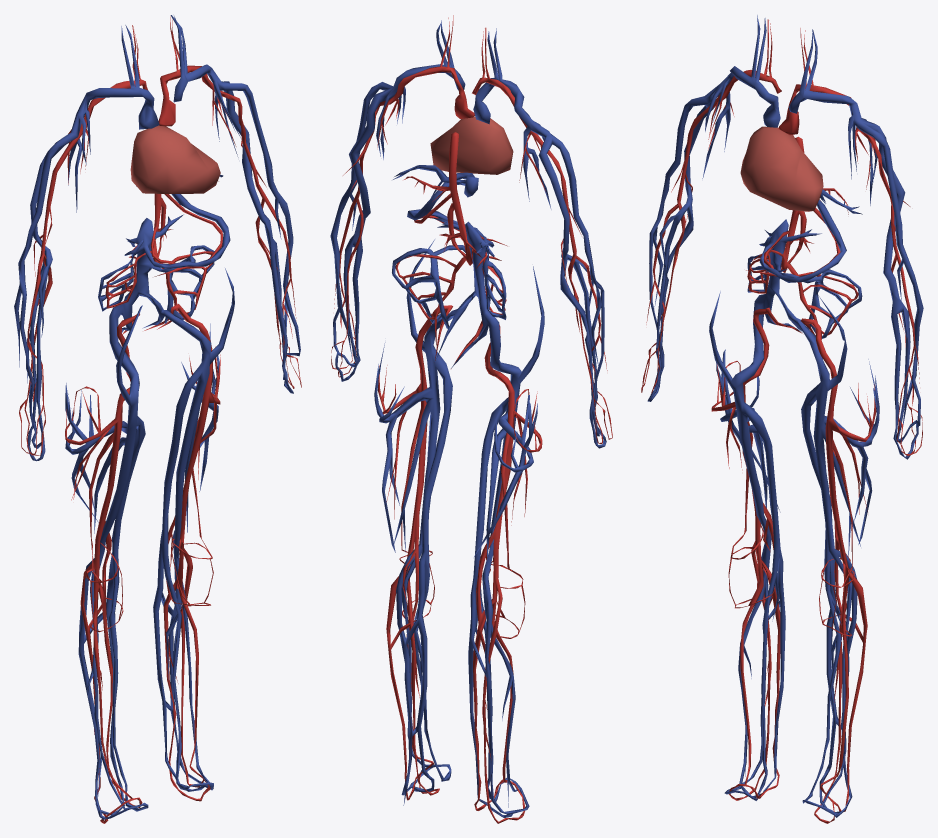
The model's file is pediatric_child_5y_female.cardiovascular.LOD3.glb.
3 views of the same model, side by side, from view 1: azimuth 30°, elevation 25°; view 2: azimuth 150°, elevation 25°; view 3: azimuth 330°, elevation 25° (orthographic).
Parts seen in each view (by area): view 1: PEDIATRIC.CHILD_5Y.FEMALE.CARDIOVASCULAR.BLOOD_IN_LARGE_VEIN, PEDIATRIC.CHILD_5Y.FEMALE.CARDIOVASCULAR.BLOOD_IN_LARGE_ARTE, PEDIATRIC.CHILD_5Y.FEMALE.CARDIOVASCULAR.HEART_WALL; view 2: PEDIATRIC.CHILD_5Y.FEMALE.CARDIOVASCULAR.BLOOD_IN_LARGE_VEIN, PEDIATRIC.CHILD_5Y.FEMALE.CARDIOVASCULAR.BLOOD_IN_LARGE_ARTE, PEDIATRIC.CHILD_5Y.FEMALE.CARDIOVASCULAR.HEART_WALL; view 3: PEDIATRIC.CHILD_5Y.FEMALE.CARDIOVASCULAR.BLOOD_IN_LARGE_VEIN, PEDIATRIC.CHILD_5Y.FEMALE.CARDIOVASCULAR.BLOOD_IN_LARGE_ARTE, PEDIATRIC.CHILD_5Y.FEMALE.CARDIOVASCULAR.HEART_WALL.
Boxes of the visible parts, left/top/right/bottom form: PEDIATRIC.CHILD_5Y.FEMALE.CARDIOVASCULAR.BLOOD_IN_LARGE_VEIN: left=14, top=15, right=300, bottom=819; PEDIATRIC.CHILD_5Y.FEMALE.CARDIOVASCULAR.BLOOD_IN_LARGE_ARTE: left=19, top=16, right=301, bottom=823; PEDIATRIC.CHILD_5Y.FEMALE.CARDIOVASCULAR.HEART_WALL: left=130, top=125, right=220, bottom=193; PEDIATRIC.CHILD_5Y.FEMALE.CARDIOVASCULAR.BLOOD_IN_LARGE_VEIN: left=330, top=20, right=606, bottom=817; PEDIATRIC.CHILD_5Y.FEMALE.CARDIOVASCULAR.BLOOD_IN_LARGE_ARTE: left=331, top=15, right=612, bottom=823; PEDIATRIC.CHILD_5Y.FEMALE.CARDIOVASCULAR.HEART_WALL: left=430, top=117, right=513, bottom=174; PEDIATRIC.CHILD_5Y.FEMALE.CARDIOVASCULAR.BLOOD_IN_LARGE_VEIN: left=647, top=15, right=923, bottom=817; PEDIATRIC.CHILD_5Y.FEMALE.CARDIOVASCULAR.BLOOD_IN_LARGE_ARTE: left=641, top=19, right=922, bottom=823; PEDIATRIC.CHILD_5Y.FEMALE.CARDIOVASCULAR.HEART_WALL: left=740, top=126, right=823, bottom=211.
Bounding box in the file's own units: 0.3474 × 0.9469 × 0.1181.
